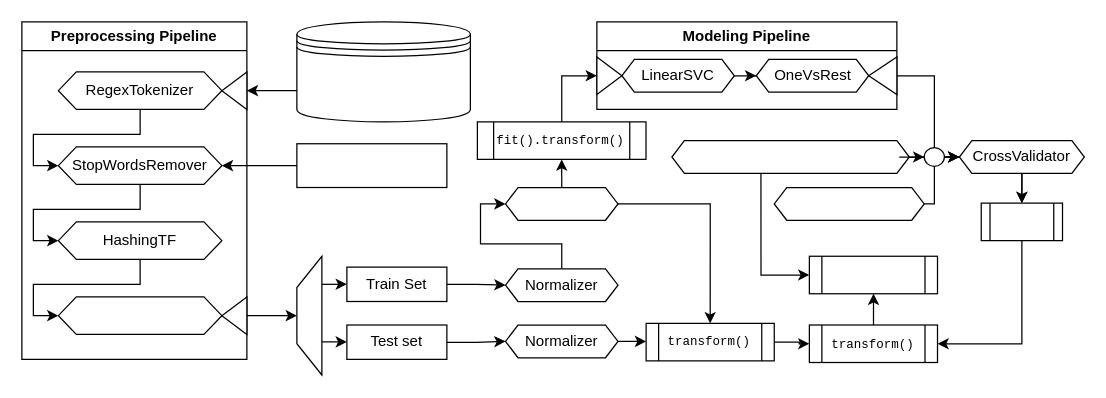
This 1106x398 diagram has some shape labels left out. Here are the shapes that lost their labels. From the top down, the centre of each, then its label:
the point at 383,71: Amazon R eviews
the point at 371,165: stopwords.txt
the point at 790,156: MulticlassClassificationEvaluator
the point at 561,203: StringIndexer
the point at 848,203: ParamGridBuilder
the point at 1021,221: fit()
the point at 873,274: evaluate()
the point at 139,315: IDF
